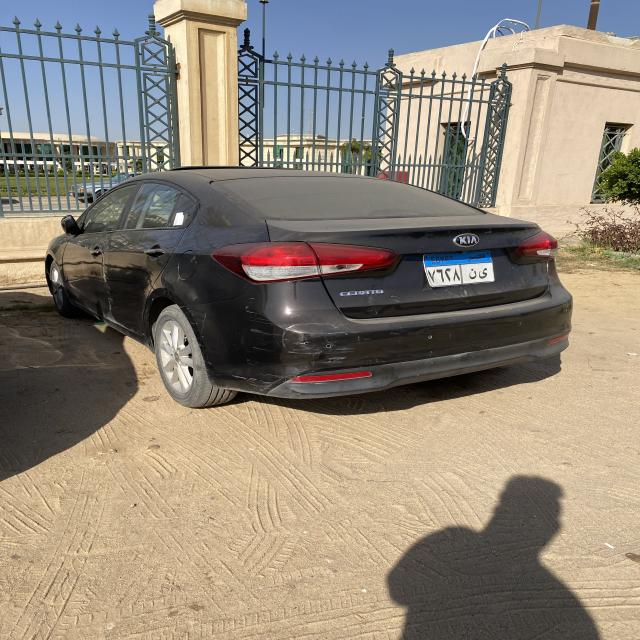License Plate: (423, 250, 495, 287)
